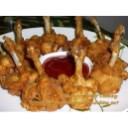chicken_lollipop: (25, 45, 64, 109), (102, 22, 128, 99), (70, 38, 96, 112), (1, 36, 29, 93), (35, 16, 67, 51), (69, 15, 91, 52)
